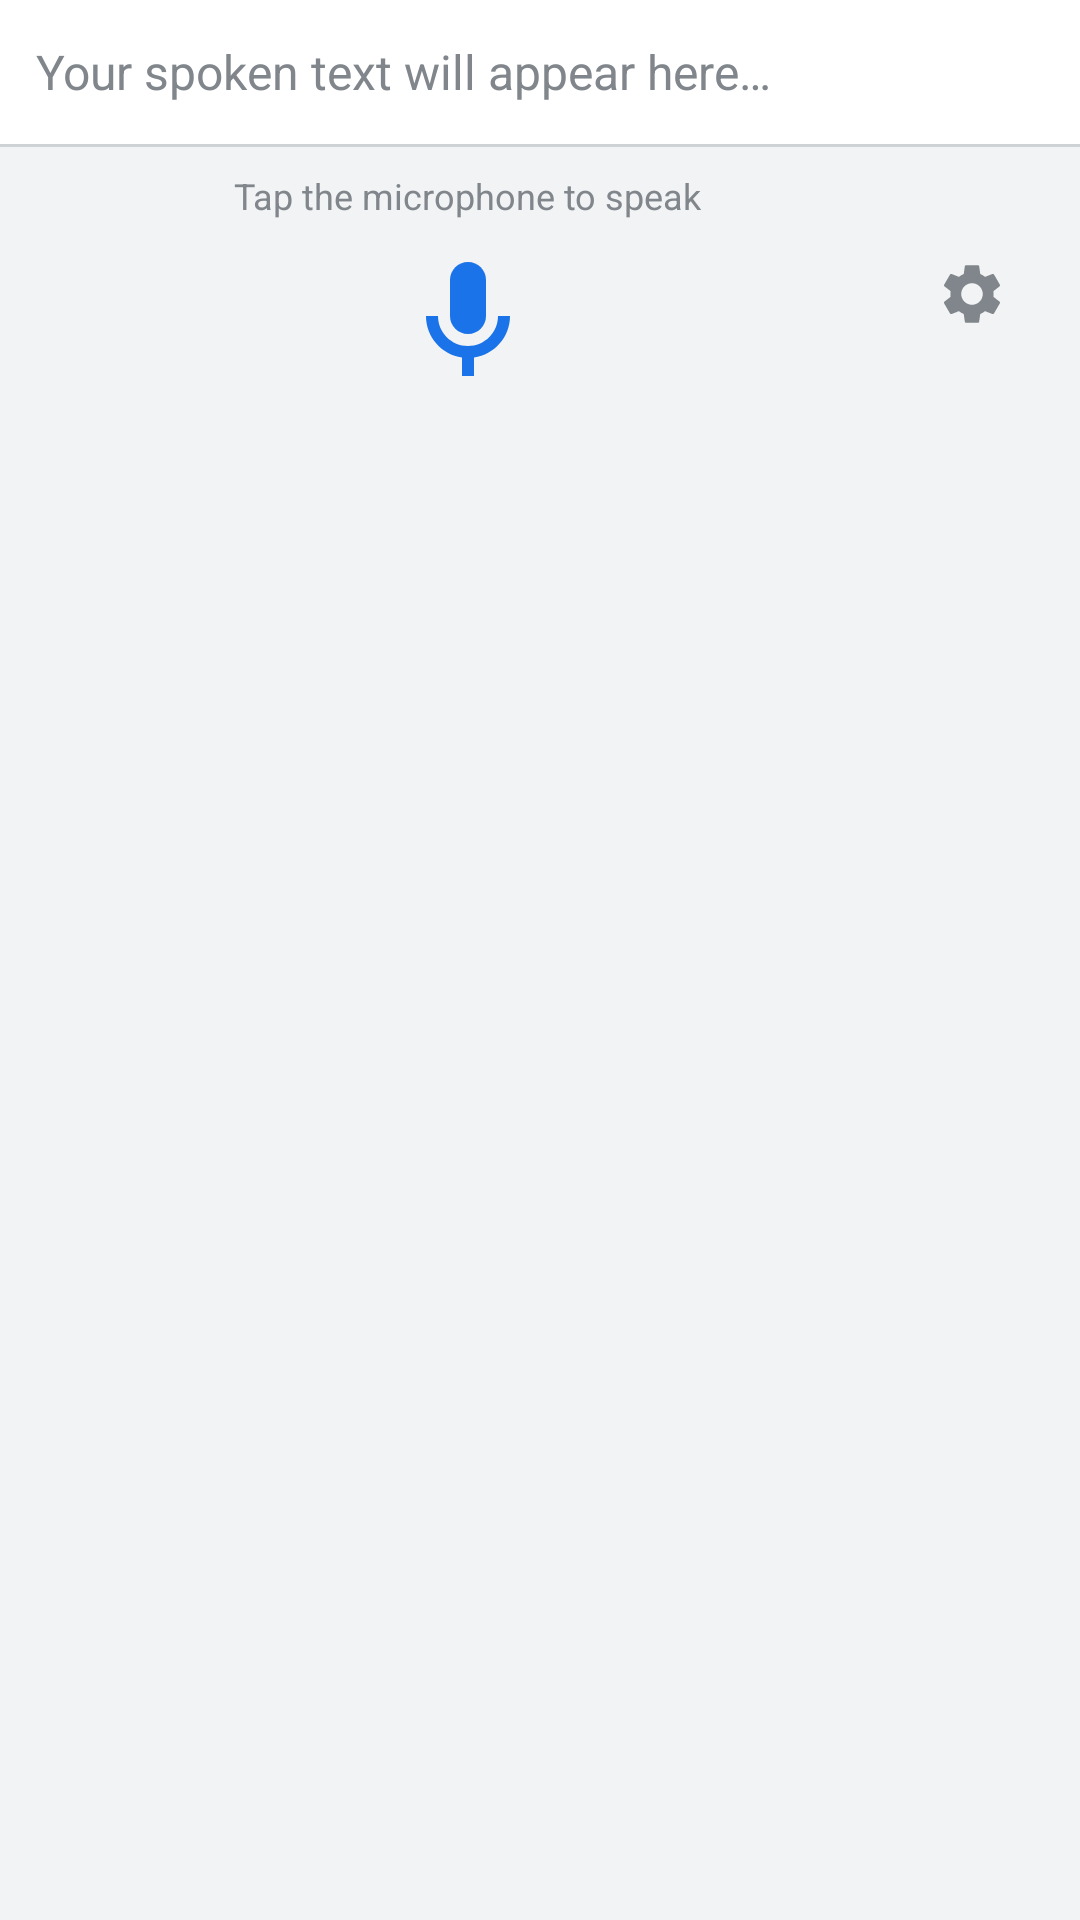

Point at icon controls on the screen. Image size 1080 × 1920, points as (x,y).
Voice Keyboard Settings: (972,294)
